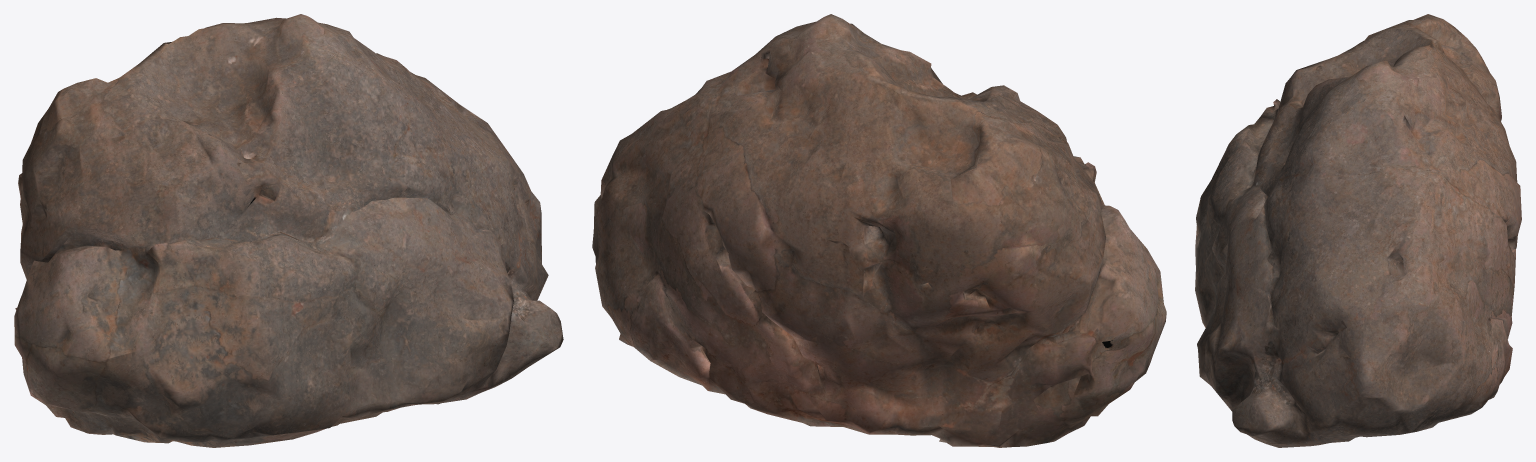
The model's file is SM_xiidfco_tier_2.gltf.
The picture shows the model from 3 angles, left to right: view 1: azimuth 30°, elevation 25°; view 2: azimuth 150°, elevation 25°; view 3: azimuth 270°, elevation 25°; orthographic projection. The views are drawn at different scales.
Visible parts, largest first — view 1: xiidfco_LOD2_TIER2_000; view 2: xiidfco_LOD2_TIER2_000; view 3: xiidfco_LOD2_TIER2_000.
Boxes of the visible parts, <box> form: xiidfco_LOD2_TIER2_000: <box>14,14,563,447</box>; xiidfco_LOD2_TIER2_000: <box>592,14,1166,447</box>; xiidfco_LOD2_TIER2_000: <box>1195,14,1521,447</box>.
Size of the model in its own units: 0.7832 by 0.5196 by 0.4641.
Materials: 1 (1 with a texture image).
